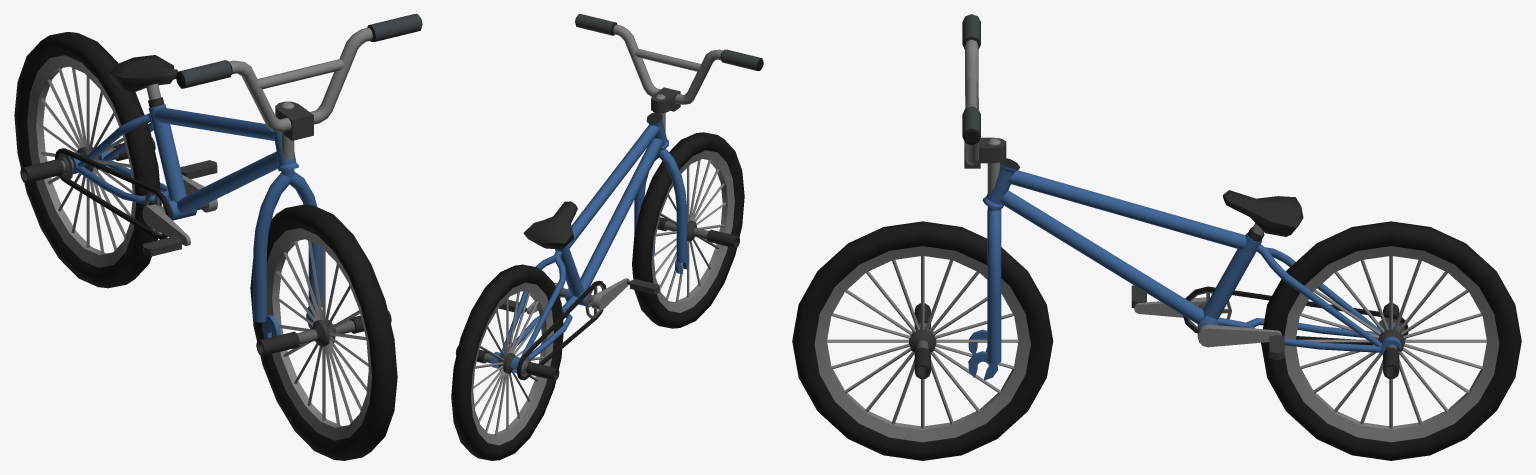
Rendered from SM_Vehicles_ Bike_02_V1.fbx.
3 renders of one model, left to right at view 1: azimuth 30°, elevation 25°; view 2: azimuth 150°, elevation 25°; view 3: azimuth 270°, elevation 25°, orthographic. The views are drawn at different scales.
Parts seen in each view (by area): view 1: SM_Vehicles_ Bike_02_F, SM_Vehicles_ Bike_02_B, SM_Vehicles_ Bike_02_V1, SM_Vehicles_ Bike_02_V1_Steering_Wheel, SM_Vehicles_ Bike_02_Pedals; view 2: SM_Vehicles_ Bike_02_B, SM_Vehicles_ Bike_02_F, SM_Vehicles_ Bike_02_V1, SM_Vehicles_ Bike_02_V1_Steering_Wheel, SM_Vehicles_ Bike_02_Pedals; view 3: SM_Vehicles_ Bike_02_F, SM_Vehicles_ Bike_02_B, SM_Vehicles_ Bike_02_V1, SM_Vehicles_ Bike_02_V1_Steering_Wheel, SM_Vehicles_ Bike_02_Pedals.
Boxes of the visible parts, x1,y1,x2,y2 form: SM_Vehicles_ Bike_02_F: (250,204,397,460); SM_Vehicles_ Bike_02_B: (14,32,161,288); SM_Vehicles_ Bike_02_V1: (55,55,298,239); SM_Vehicles_ Bike_02_V1_Steering_Wheel: (176,14,422,338); SM_Vehicles_ Bike_02_Pedals: (142,160,217,256); SM_Vehicles_ Bike_02_B: (451,264,563,460); SM_Vehicles_ Bike_02_F: (632,132,744,328); SM_Vehicles_ Bike_02_V1: (490,112,668,380); SM_Vehicles_ Bike_02_V1_Steering_Wheel: (575,14,763,273); SM_Vehicles_ Bike_02_Pedals: (498,278,659,318); SM_Vehicles_ Bike_02_F: (792,221,1053,460); SM_Vehicles_ Bike_02_B: (1261,221,1521,460); SM_Vehicles_ Bike_02_V1: (982,158,1408,354); SM_Vehicles_ Bike_02_V1_Steering_Wheel: (962,14,1006,380); SM_Vehicles_ Bike_02_Pedals: (1131,285,1284,359).
Size of the model in its own units: 0.6374 by 0.9942 by 1.69.
